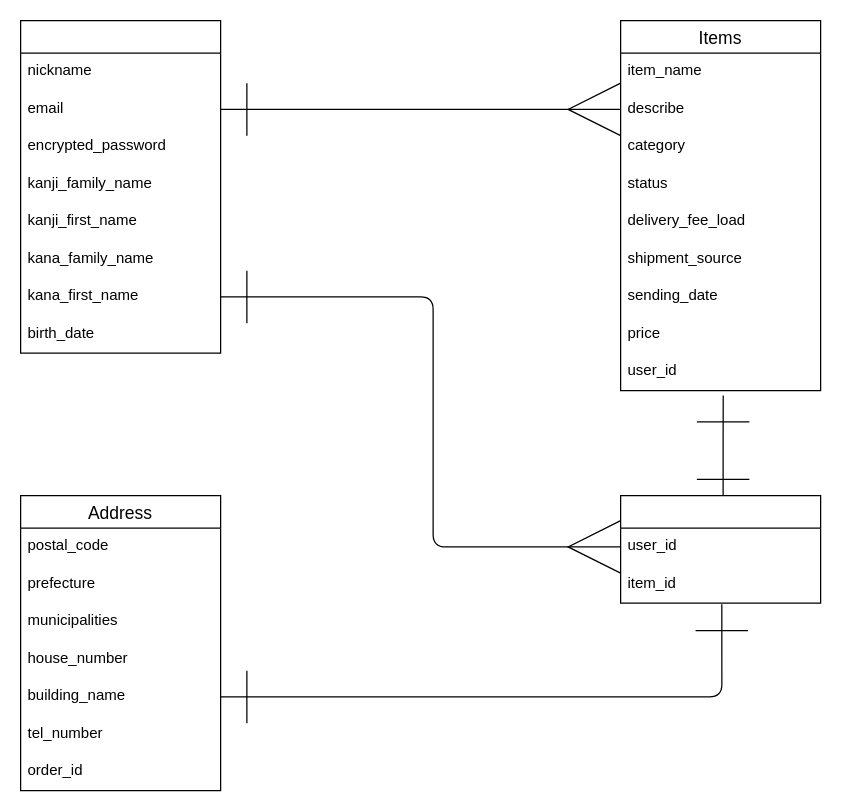
Some shapes in this 841 by 811 pixel diagram are drawn without their labels. Here are the shapes that lost their labels. From the top down, the box of each, then its label:
(19, 19, 221, 353): Users
(619, 494, 821, 603): Orders
